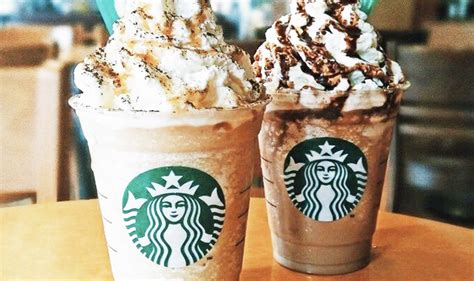starbucks Originale: (114, 158, 237, 272), (276, 135, 376, 229)
